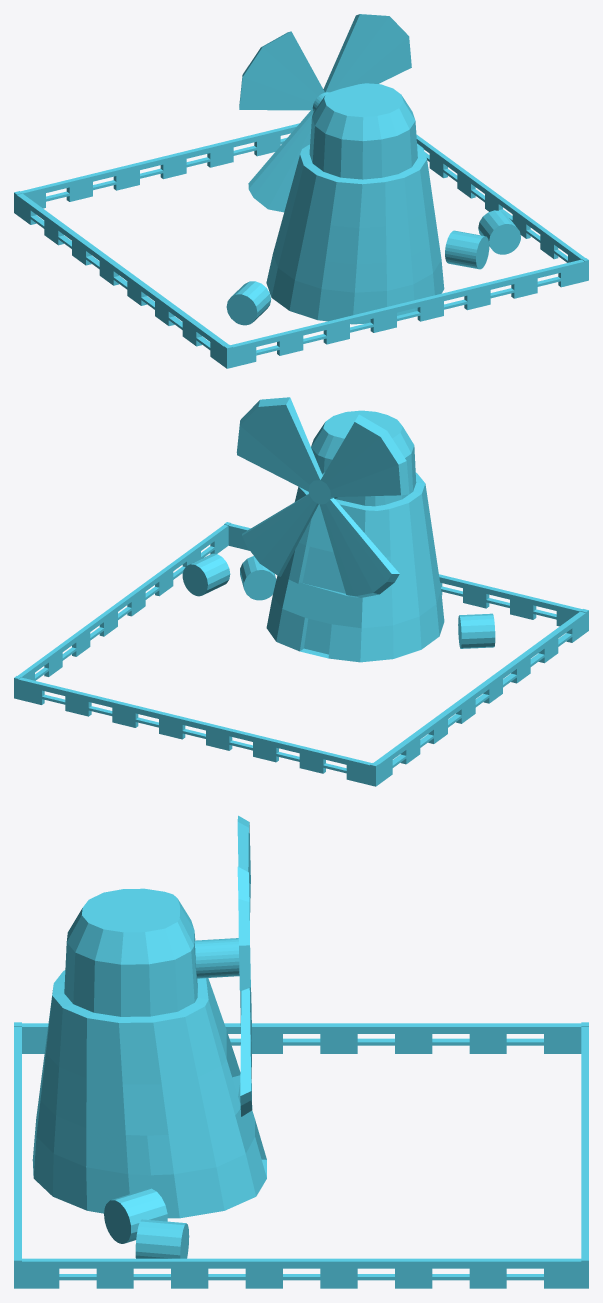
The model's file is Farm.fbx.
3 views of the same model, one above another, from view 1: azimuth 30°, elevation 25°; view 2: azimuth 150°, elevation 25°; view 3: azimuth 270°, elevation 25° (orthographic). The views are drawn at different scales.
Visible parts, largest first — view 1: Cube; view 2: Cube; view 3: Cube.
Part boxes in pixels (x1,y1,x2,y2): Cube: [14, 14, 588, 368]; Cube: [14, 397, 588, 786]; Cube: [14, 815, 588, 1288].
Size of the model in its own units: 185 by 119 by 189.
